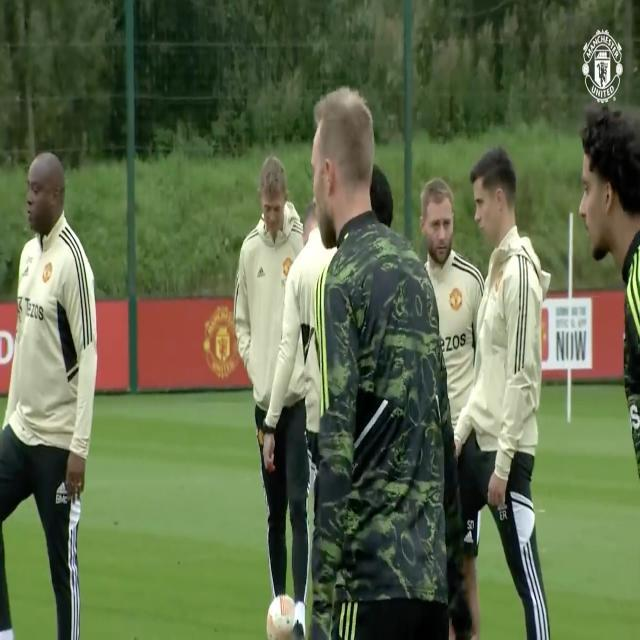Adidas: (57, 480, 69, 496), (464, 529, 474, 544), (257, 264, 266, 280)
